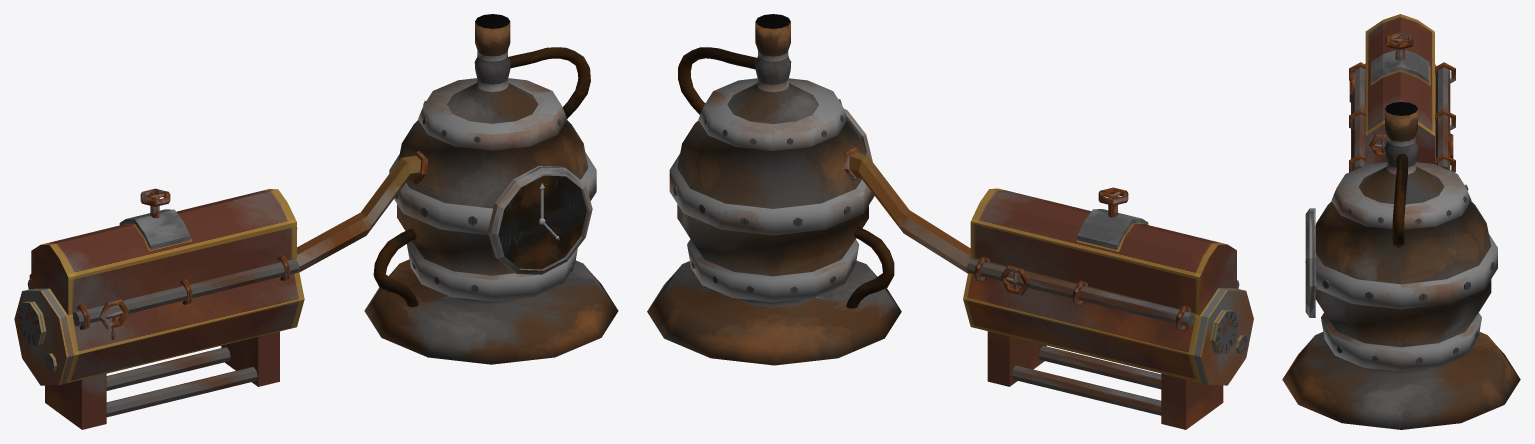
Rendered from MaschinenCombo1.fbx.
3 views of the same model, side by side, from view 1: azimuth 30°, elevation 25°; view 2: azimuth 150°, elevation 25°; view 3: azimuth 270°, elevation 25° (orthographic). The views are drawn at different scales.
Parts seen in each view (by area): view 1: Base, Cylinder, Anzeige, Cylinder.001, Cylinder.019, Cylinder.008, Cylinder.005, Cylinder.007, Rohr, Rohr.001, Cylinder.003; view 2: Base, Cylinder, Cylinder.001, Cylinder.019, Cylinder.009, Cylinder.007, Cylinder.005, Rohr, Rohr.001, Cylinder.003, Cylinder.002; view 3: Base, Cylinder, Cylinder.009, Cylinder.008, Anzeige, Rohr, Cylinder.002, Torus.007.
Boxes of the visible parts, <box> form: Base: <box>364,14,618,364</box>; Cylinder: <box>31,189,304,429</box>; Anzeige: <box>487,166,592,274</box>; Cylinder.001: <box>14,288,75,385</box>; Cylinder.019: <box>297,155,421,272</box>; Cylinder.008: <box>72,258,299,326</box>; Cylinder.005: <box>106,367,257,417</box>; Cylinder.007: <box>106,347,230,390</box>; Rohr: <box>508,47,590,118</box>; Rohr.001: <box>373,229,418,307</box>; Cylinder.003: <box>18,301,46,345</box>; Base: <box>647,14,901,365</box>; Cylinder: <box>963,188,1236,429</box>; Cylinder.001: <box>1191,288,1253,385</box>; Cylinder.019: <box>849,152,970,273</box>; Cylinder.009: <box>967,259,1194,326</box>; Cylinder.007: <box>1011,365,1161,415</box>; Cylinder.005: <box>1038,346,1161,389</box>; Rohr: <box>678,47,756,114</box>; Rohr.001: <box>846,226,894,308</box>; Cylinder.003: <box>1210,310,1238,353</box>; Cylinder.002: <box>673,99,872,294</box>; Base: <box>1282,102,1520,429</box>; Cylinder: <box>1351,14,1435,165</box>; Cylinder.009: <box>1436,67,1450,170</box>; Cylinder.008: <box>1352,67,1365,170</box>; Anzeige: <box>1305,208,1315,317</box>; Rohr: <box>1392,153,1407,247</box>; Cylinder.002: <box>1322,184,1494,364</box>; Torus.007: <box>1385,32,1413,49</box>.
Bounding box in the file's own units: 2502 × 1222 × 972.
